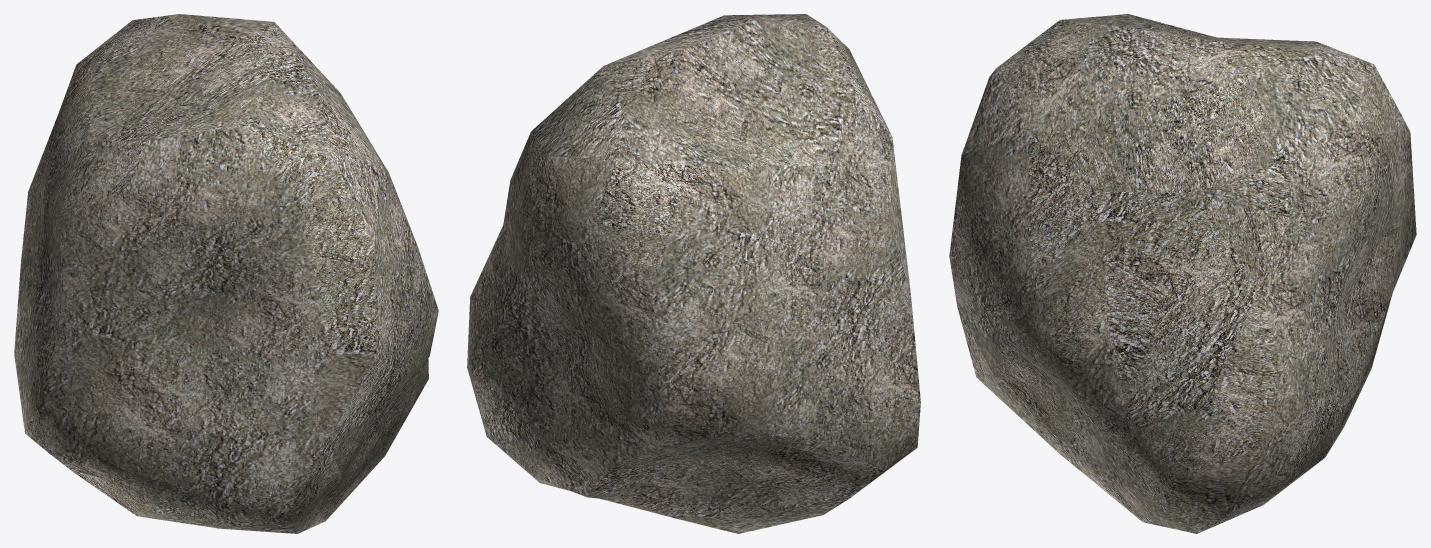
The model's file is boulder_3.dae.
3 views of the same model, side by side, from view 1: azimuth 30°, elevation 25°; view 2: azimuth 150°, elevation 25°; view 3: azimuth 270°, elevation 25° (orthographic). The views are drawn at different scales.
Parts seen in each view (by area): view 1: bouldercubic128; view 2: bouldercubic128; view 3: bouldercubic128.
Boxes of the visible parts, x1,y1,x2,y2 form: bouldercubic128: (14,14,438,533); bouldercubic128: (467,14,920,533); bouldercubic128: (949,14,1416,533).
Size of the model in its own units: 1.93 by 2 by 2.2.
Materials: 1 (1 with a texture image).
